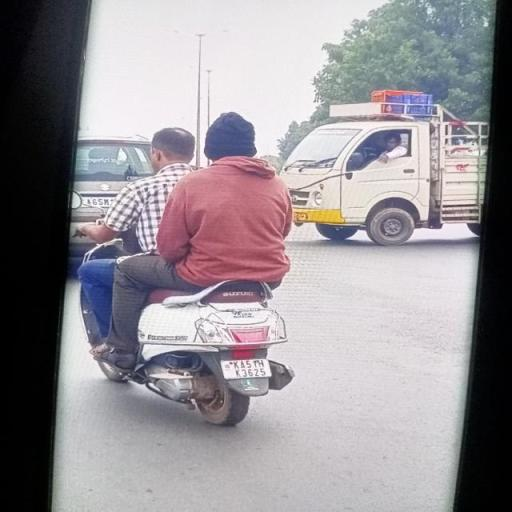bike: (65, 114, 316, 424)
numberplate: (220, 355, 270, 381)
withouthelmet: (210, 117, 254, 157), (152, 129, 194, 166)
